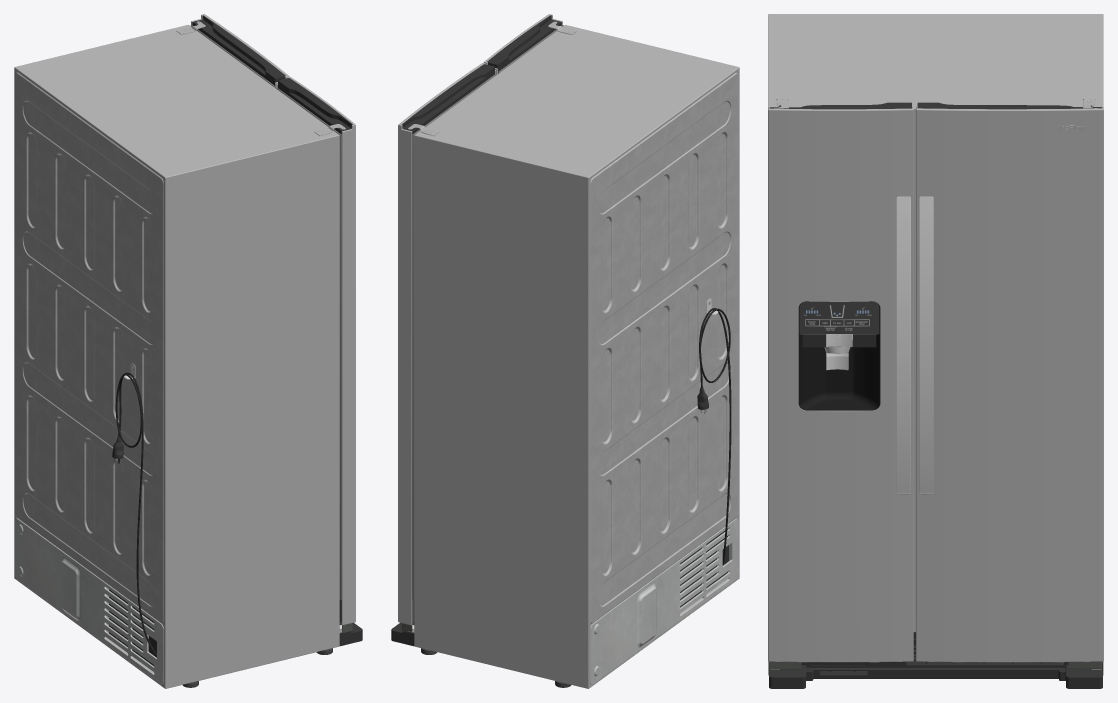
The model's file is appliance_refrigerator_a01.glb.
The picture shows the model from 3 angles, left to right: view 1: azimuth 30°, elevation 25°; view 2: azimuth 150°, elevation 25°; view 3: azimuth 270°, elevation 25°; orthographic projection. The views are drawn at different scales.
Parts seen in each view (by area): view 1: body_01_mesh_00, door_02_mesh_00, door_01_mesh_00; view 2: body_01_mesh_00, door_01_mesh_00, door_02_mesh_00; view 3: door_01_mesh_00, door_02_mesh_00, body_01_mesh_00, screen_01_mesh_00.
Boxes of the visible parts, left/top/right/bottom form: body_01_mesh_00: left=14, top=21, right=362, bottom=688; door_02_mesh_00: left=276, top=76, right=355, bottom=633; door_01_mesh_00: left=190, top=14, right=289, bottom=88; body_01_mesh_00: left=391, top=21, right=739, bottom=688; door_01_mesh_00: left=398, top=63, right=496, bottom=633; door_02_mesh_00: left=483, top=14, right=563, bottom=74; door_01_mesh_00: left=916, top=102, right=1103, bottom=669; door_02_mesh_00: left=768, top=102, right=913, bottom=669; body_01_mesh_00: left=768, top=14, right=1103, bottom=688; screen_01_mesh_00: left=800, top=302, right=878, bottom=334.
Size of the model in its own units: 0.7357 by 1.73 by 0.9066.
21 materials, 10 textured.
